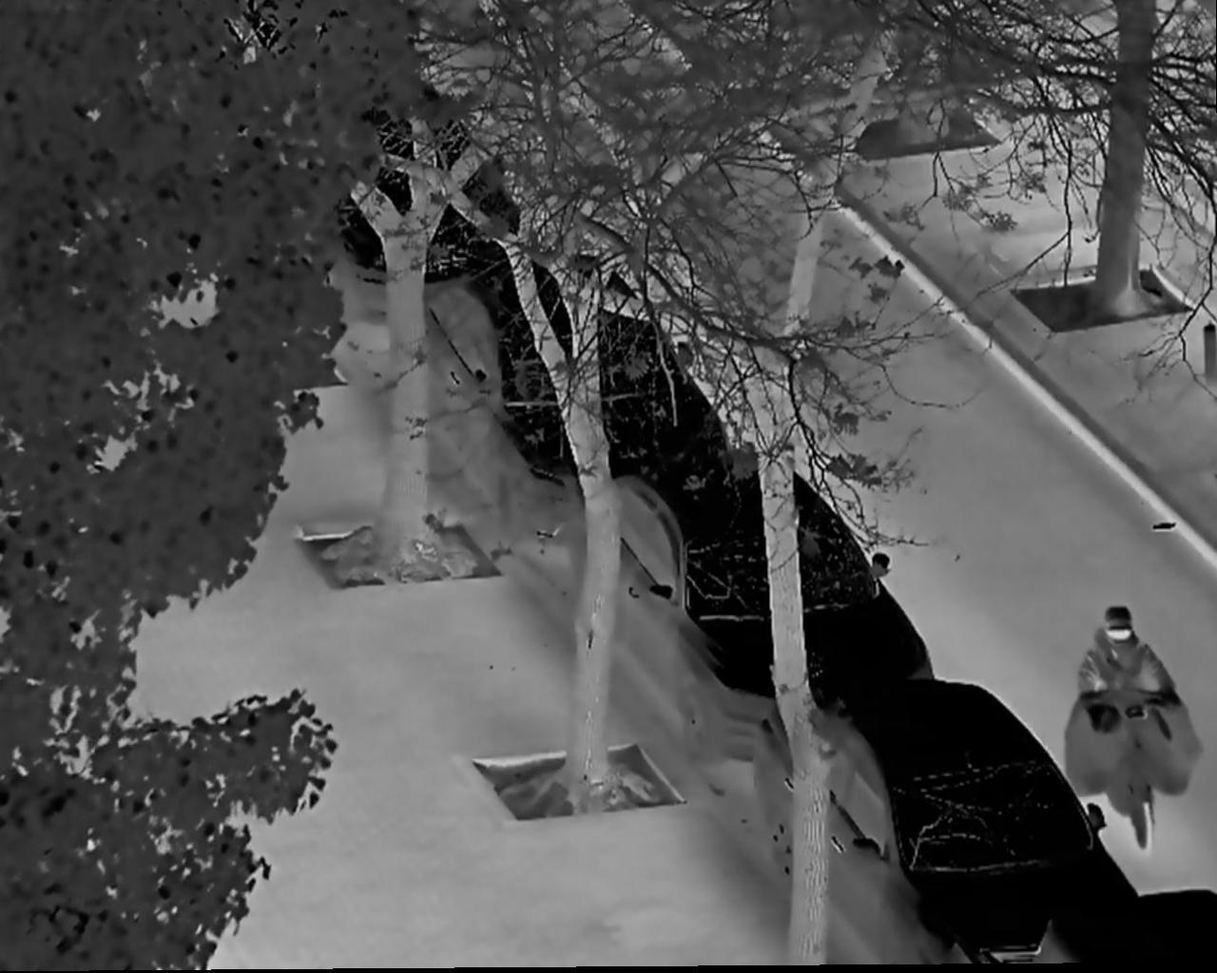person: (1082, 605, 1169, 786)
